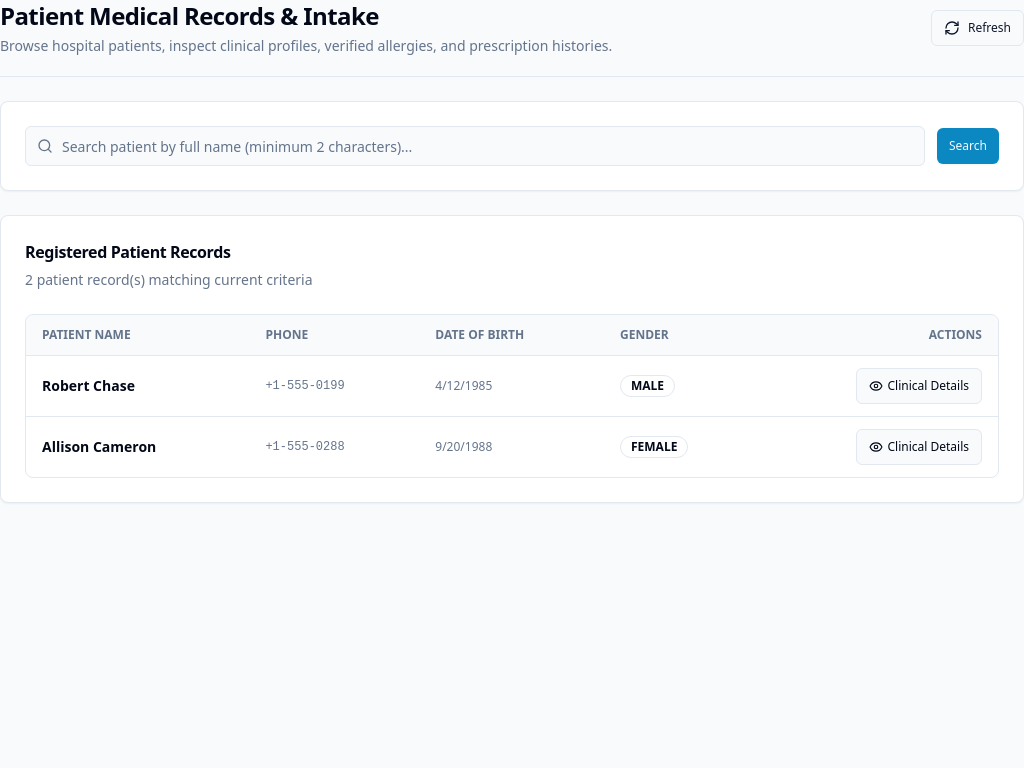
Test: Doctor Patients Directory & Clinical Details Suites › opens clinical record dialog and renders allergies and medical history
This screenshot has width=1024, height=768.
Expected: the text "Robert Chase" is shown, top-left (26, 356), bottom-right (249, 416)
Step 1. Click the button "Clinical Details" in the row of "Robert Chase" → [919, 386], box top-left (856, 368), bottom-right (982, 404)
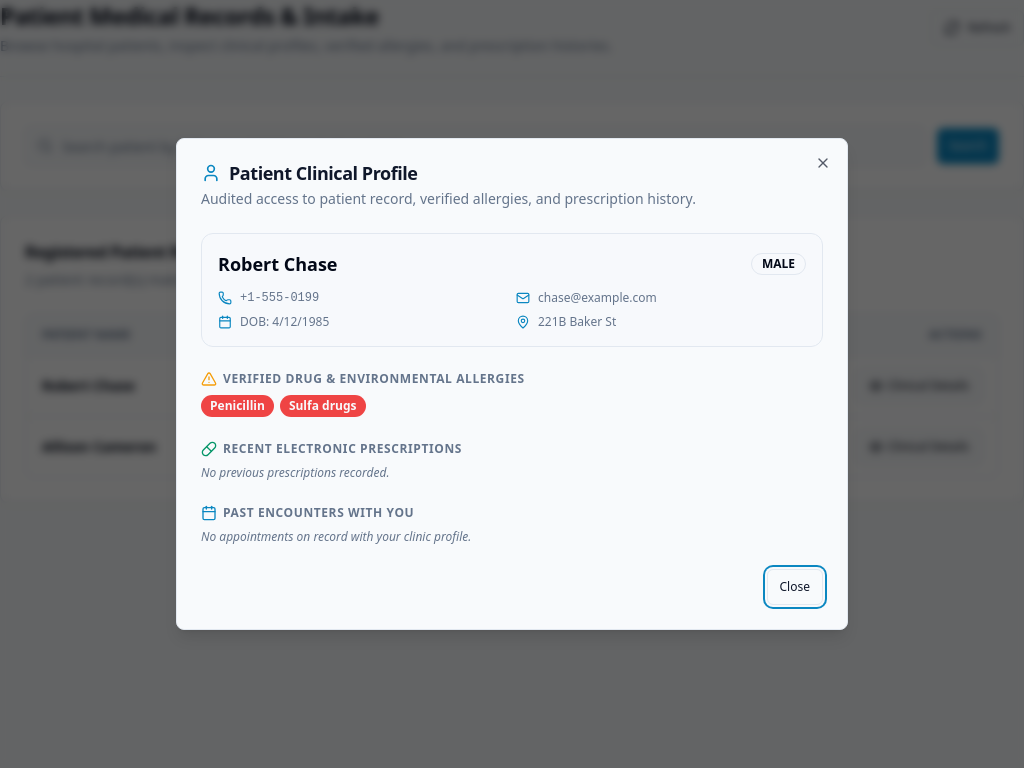
Result: the text "Patient Clinical Profile" is shown at top-left (229, 164), bottom-right (418, 182)
Result: the text "Penicillin" is shown at top-left (201, 395), bottom-right (274, 417)
Result: the text "Sulfa drugs" is shown at top-left (280, 395), bottom-right (366, 417)
